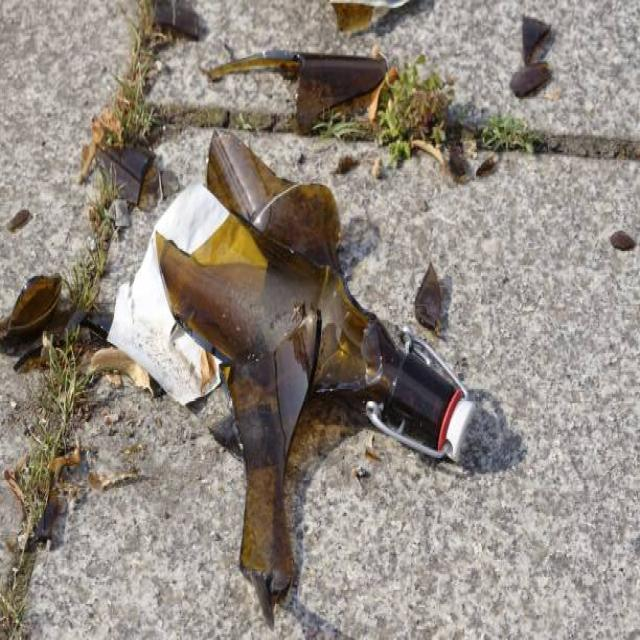electronic: (5, 0, 565, 640)
